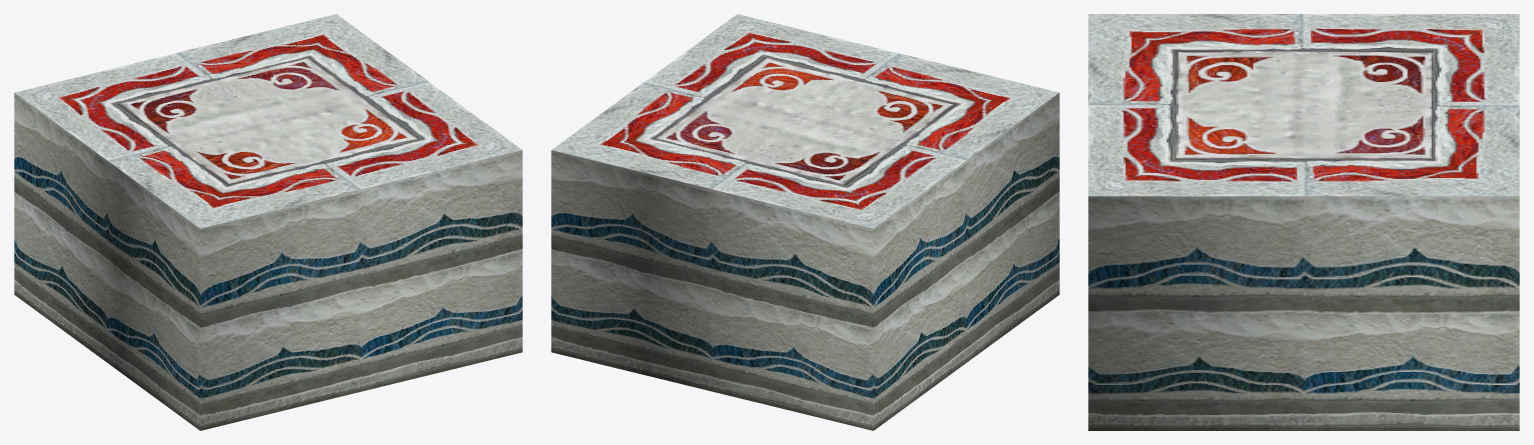
Rendered from StonePlatform.obj.
3 renders of one model, left to right at view 1: azimuth 30°, elevation 25°; view 2: azimuth 150°, elevation 25°; view 3: azimuth 270°, elevation 25°, orthographic. The views are drawn at different scales.
Bounding box in the file's own units: 50 × 30 × 50.
3 materials, 3 textured.
